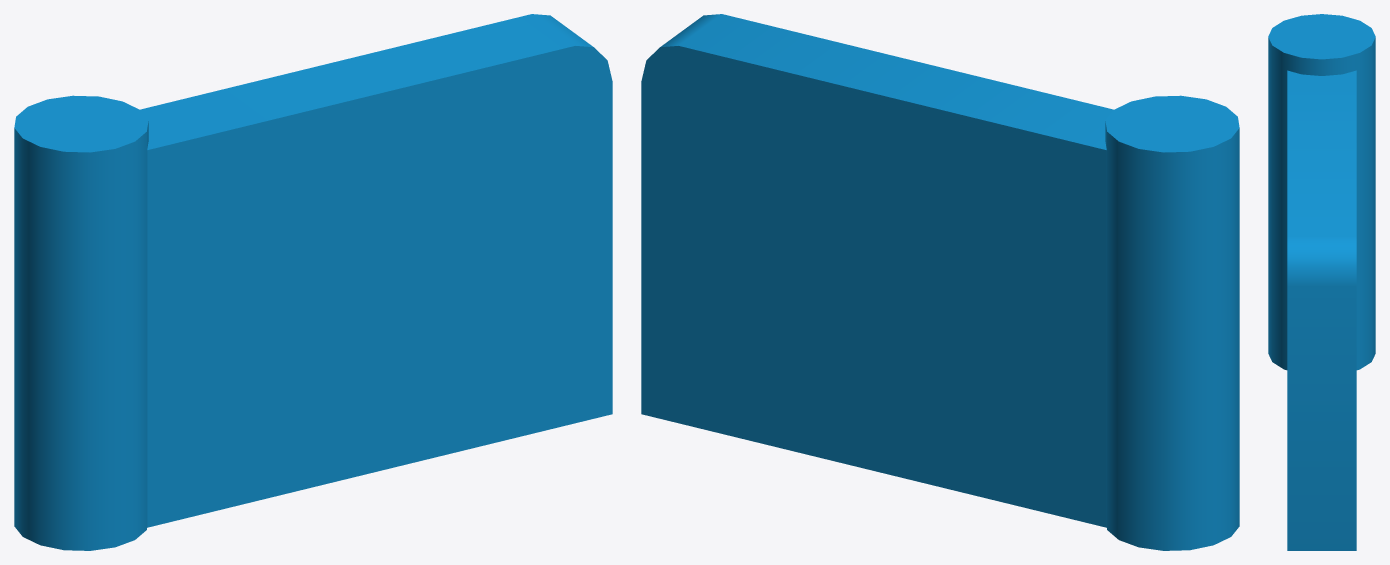
Rendered from door_blue.fbx.
The picture shows the model from 3 angles, left to right: view 1: azimuth 30°, elevation 25°; view 2: azimuth 150°, elevation 25°; view 3: azimuth 270°, elevation 25°; orthographic projection. The views are drawn at different scales.
Visible parts, largest first — view 1: door_blue.002, q; view 2: door_blue.002, q; view 3: door_blue.002, q.
Boxes of the visible parts, x1,y1,x2,y2 form: door_blue.002: [140, 14, 612, 527]; q: [14, 95, 148, 550]; door_blue.002: [641, 14, 1113, 527]; q: [1105, 95, 1239, 550]; door_blue.002: [1287, 70, 1356, 550]; q: [1268, 14, 1375, 370].
Size of the model in its own units: 0.8211 by 0.5504 by 0.1695.
